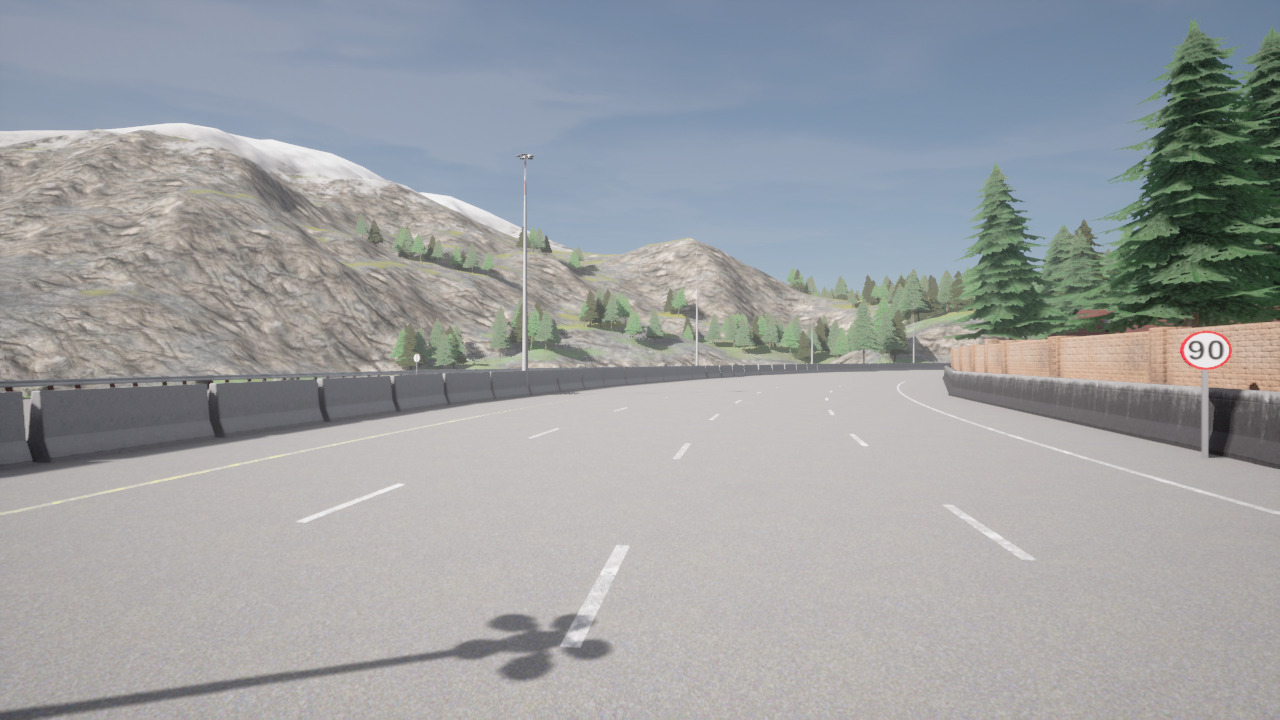sl90: (1178, 329, 1234, 372)
